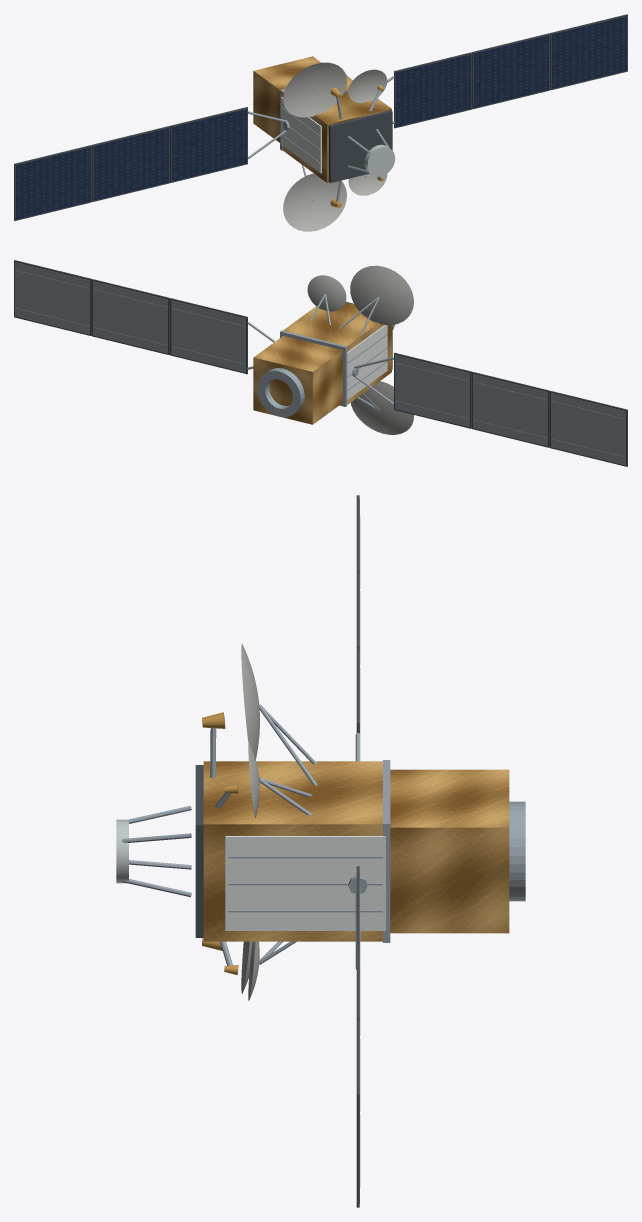
Rendered from ref-l-sat-20122.glb.
The picture shows the model from 3 angles, top to bottom: view 1: azimuth 30°, elevation 25°; view 2: azimuth 150°, elevation 25°; view 3: azimuth 270°, elevation 25°; orthographic projection. The views are drawn at different scales.
Parts seen in each view (by area): view 1: Solar cell panel (×6), Communications reflector (×4), Earth-facing deck, Solar panel frame (×6), Service module, Payload module, Radiator face, Antenna tower platform; view 2: Rear array substrate (×6), Communications reflector (×3), Service module, Solar panel frame (×6), Payload module, Radiator face, Launch adapter ring, Module interface; view 3: Service module, Payload module, Radiator face, Launch adapter ring, Earth-facing deck, Communications reflector, Module interface.
Boxes of the visible parts, x1,y1,x2,y2 form: Solar cell panel (×6): [16, 16, 626, 219]; Communications reflector (×4): [283, 62, 387, 231]; Earth-facing deck: [328, 110, 392, 182]; Solar panel frame (×6): [14, 14, 627, 220]; Service module: [253, 56, 321, 142]; Payload module: [282, 76, 391, 182]; Radiator face: [280, 97, 321, 173]; Antenna tower platform: [364, 144, 395, 176]; Rear array substrate (×6): [15, 262, 625, 465]; Communications reflector (×3): [307, 265, 413, 434]; Service module: [253, 336, 342, 424]; Solar panel frame (×6): [14, 260, 627, 466]; Payload module: [283, 302, 391, 404]; Radiator face: [346, 325, 387, 399]; Launch adapter ring: [257, 368, 304, 417]; Module interface: [280, 330, 347, 406]; Service module: [390, 769, 509, 933]; Payload module: [203, 761, 382, 941]; Radiator face: [225, 836, 385, 930]; Launch adapter ring: [509, 801, 525, 901]; Earth-facing deck: [195, 765, 203, 937]; Communications reflector: [241, 643, 259, 759]; Module interface: [383, 760, 390, 942].
Bounding box in the file's own units: 25.67 × 6.69 × 7.41.
9 materials, 2 textured.
